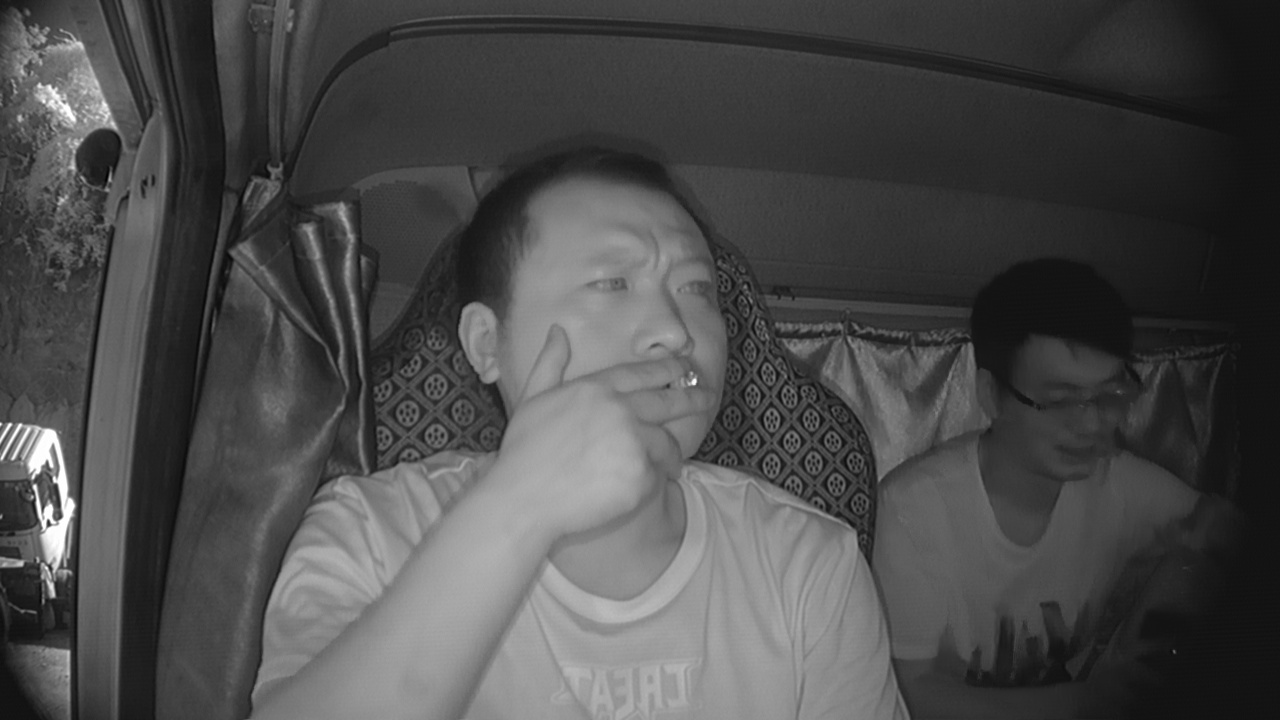hand: (559, 350, 709, 513)
